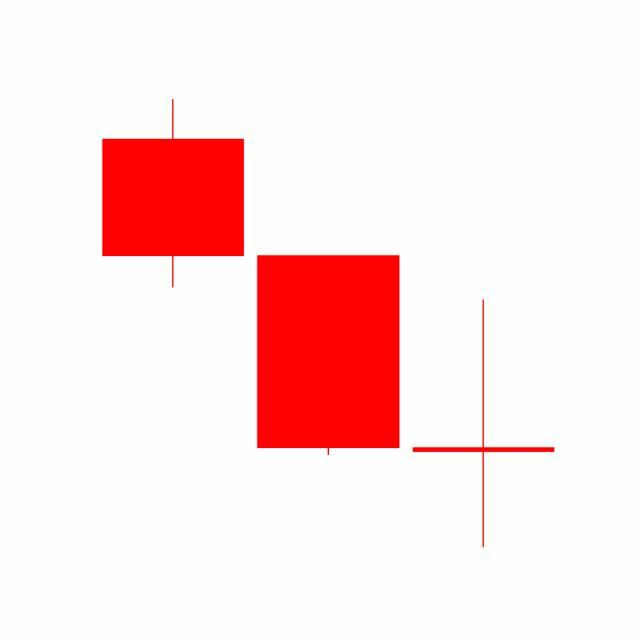Spinning Top: (406, 297, 562, 551)
